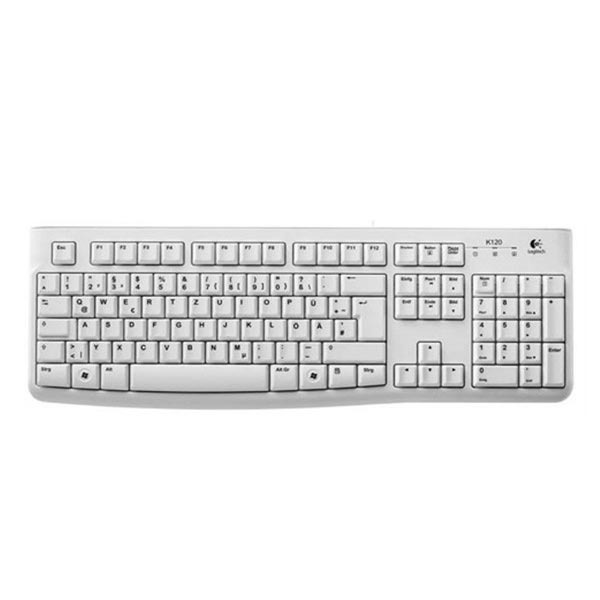keyboard: (28, 225, 575, 406)
